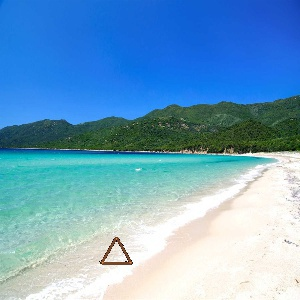triangle: (94, 233, 137, 271)
